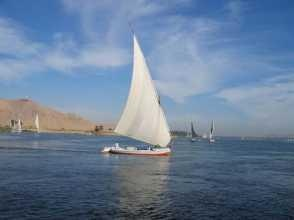fanchuan: (97, 23, 175, 160)
